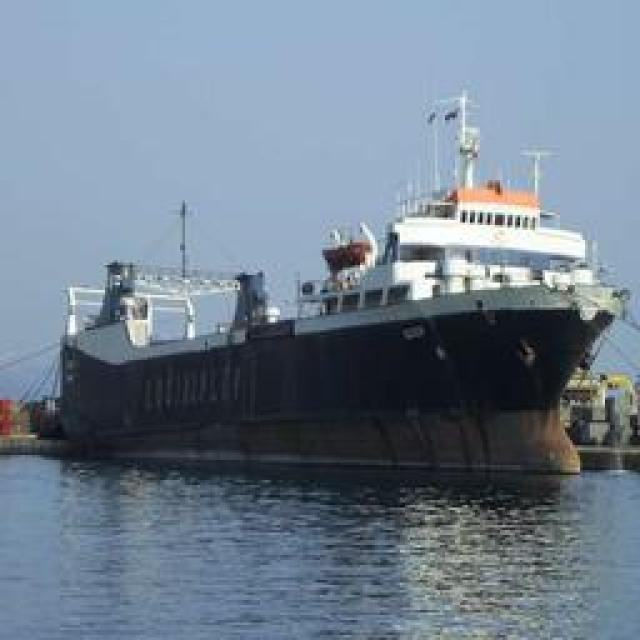ship2: (49, 92, 631, 483)
